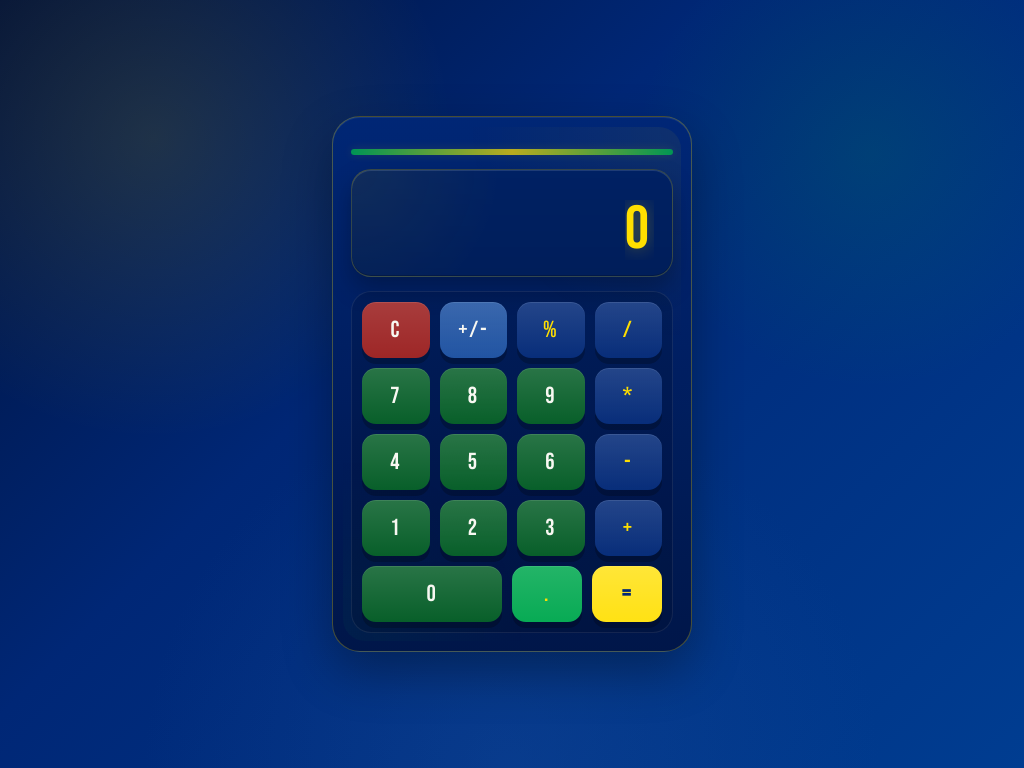
Componente Calculator › muestra el dígito presionado en la pantalla
The width and height of the screenshot is (1024, 768).
Click the button "5".
click(473, 462)  # box [440,434,507,490]
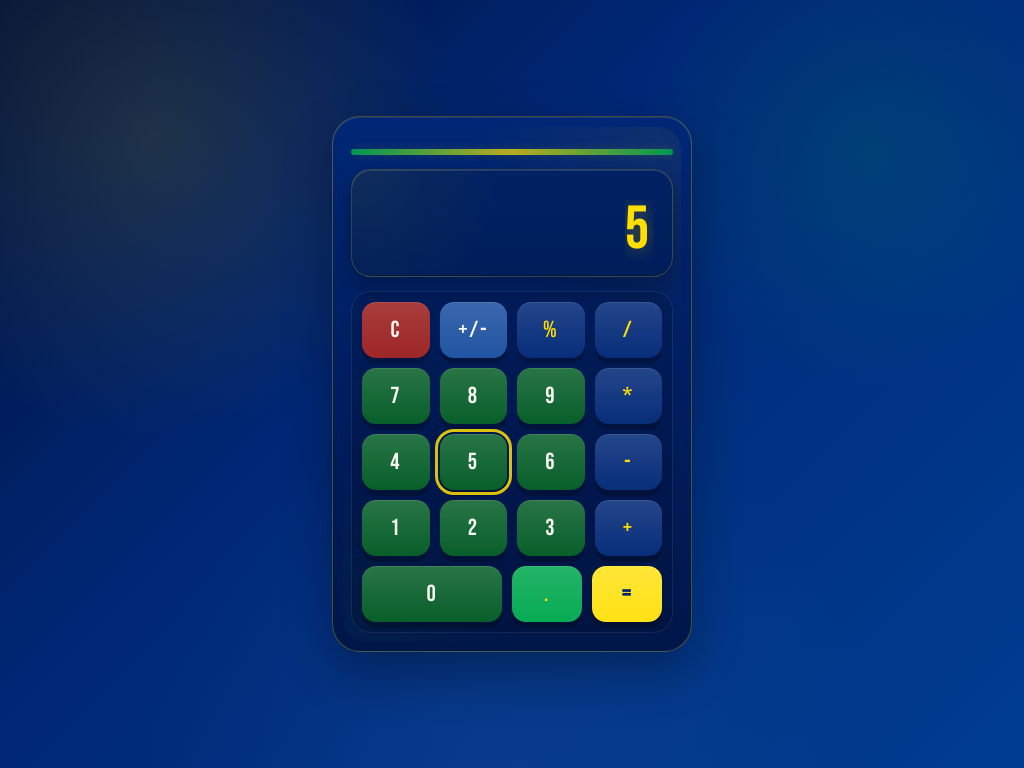
Now the message reads "5", box [625,193,654,266]
